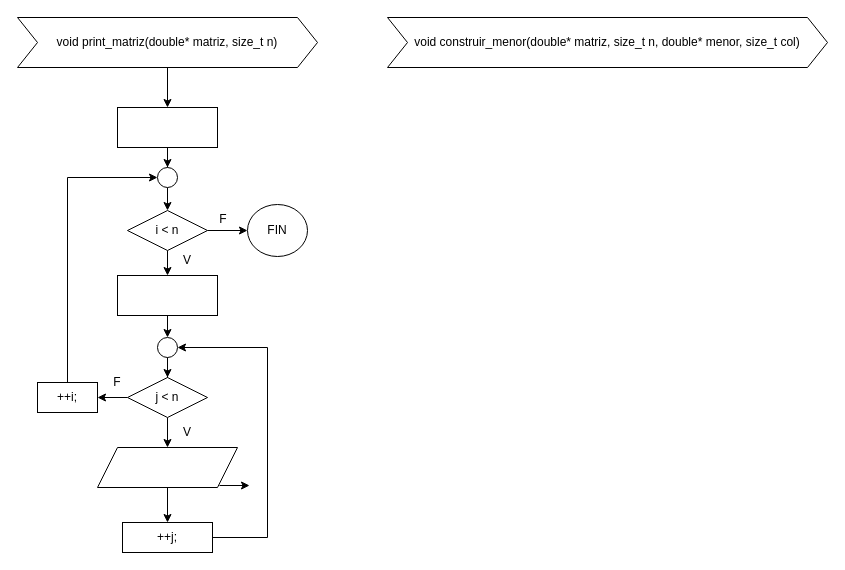
The diagram is 845 pixels wide and 570 high, and some of its shapes have lost their labels. Each missing label, with the centre of its shape:
"int i=0;" goes at pixel 167 127.
"int j=0;" goes at pixel 167 295.
"matriz[i*n+j]" goes at pixel 167 467.
